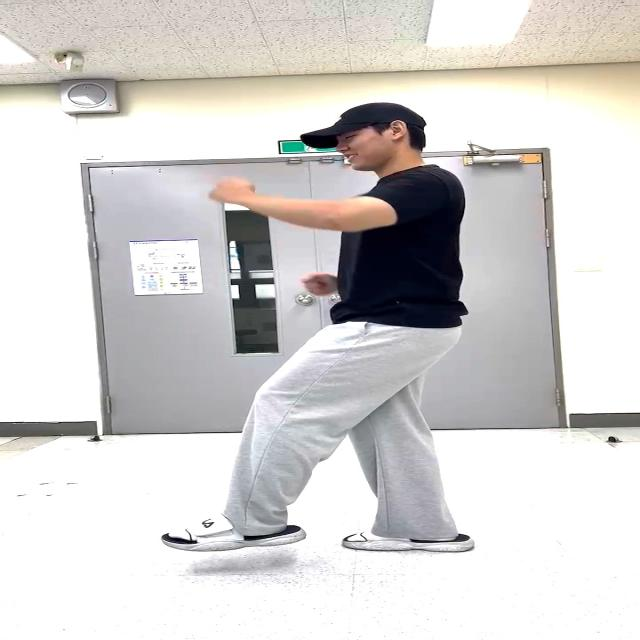leg: (156, 333, 387, 564)
